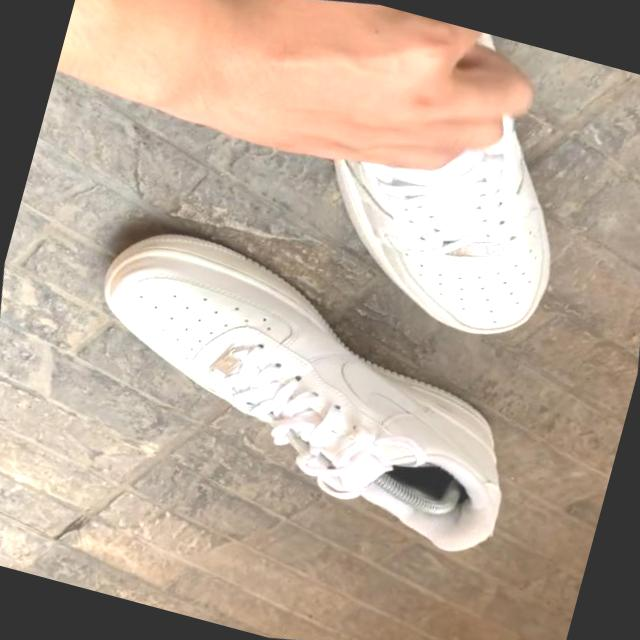nike_fake_airforce: (29, 152, 568, 620), (254, 0, 619, 378)
